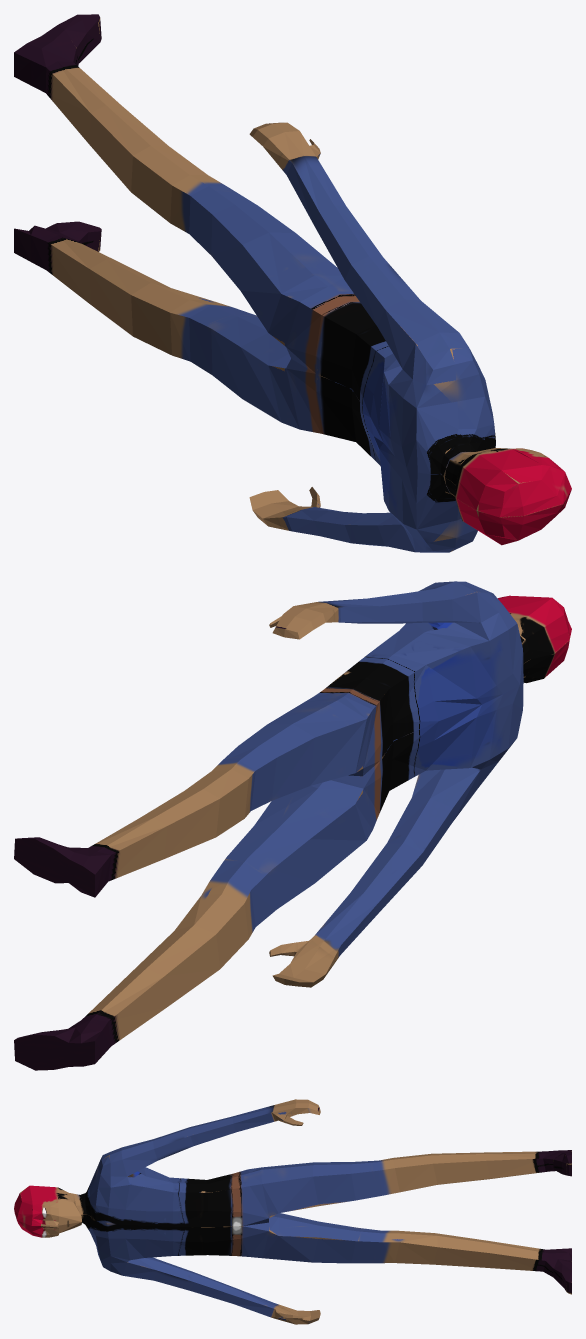
Rendered from mirrorman.obj.
The picture shows the model from 3 angles, top to bottom: view 1: azimuth 30°, elevation 25°; view 2: azimuth 150°, elevation 25°; view 3: azimuth 270°, elevation 25°; orthographic projection. The views are drawn at different scales.
Parts seen in each view (by area): view 1: mirrorman_Cube.001_Material.001; view 2: mirrorman_Cube.001_Material.001; view 3: mirrorman_Cube.001_Material.001.
Part boxes in pixels (<box>): mirrorman_Cube.001_Material.001: <box>14,14,571,552</box>; mirrorman_Cube.001_Material.001: <box>14,581,571,1070</box>; mirrorman_Cube.001_Material.001: <box>14,1099,571,1324</box>.
Bounding box in the file's own units: 0.2504 × 0.8177 × 1.9.
Materials: 1 (1 with a texture image).
